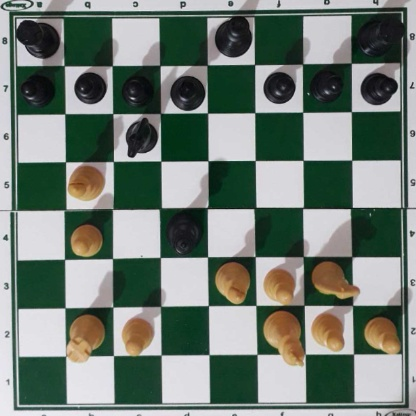black-bishop: (168, 75, 207, 112)
black-king: (213, 15, 255, 58)
black-knight: (123, 118, 159, 158)
black-pawn: (360, 69, 396, 105), (263, 67, 295, 102), (20, 72, 54, 104), (311, 67, 343, 101), (121, 72, 153, 106), (73, 70, 104, 104)
black-queen: (164, 211, 201, 256)
black-rook: (13, 15, 61, 58), (358, 14, 405, 55)
white-bishop: (213, 262, 251, 306), (66, 164, 106, 201)
white-king: (262, 310, 306, 368)
white-knight: (309, 259, 362, 302)
white-pawn: (310, 312, 346, 352), (120, 315, 154, 356), (363, 315, 400, 352), (261, 265, 296, 302), (69, 223, 103, 256)
white-rook: (65, 313, 105, 364)
